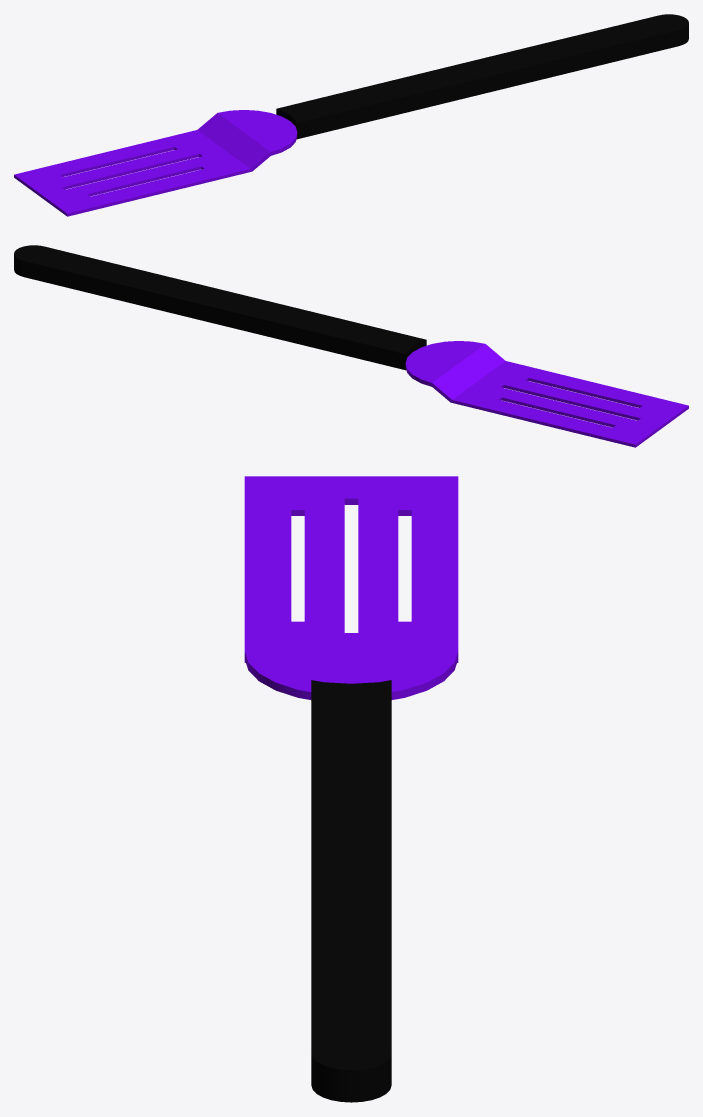
File: turner_06_origin_gt_6.dae
3 renders of one model, top to bottom at view 1: azimuth 30°, elevation 25°; view 2: azimuth 150°, elevation 25°; view 3: azimuth 270°, elevation 25°, orthographic. The views are drawn at different scales.
Parts seen in each view (by area): view 1: group_1 (×4), group_0; view 2: group_1 (×4), group_0; view 3: group_1, group_0.
Boxes of the visible parts, x1=… form: group_1 (×4): x1=14, y1=110, x2=297, y2=216; group_0: x1=276, y1=14, x2=688, y2=139; group_1 (×4): x1=405, y1=341, x2=688, y2=447; group_0: x1=14, y1=245, x2=426, y2=370; group_1: x1=244, y1=476, x2=458, y2=699; group_0: x1=311, y1=680, x2=391, y2=1102.
Size of the model in its own units: 13.96 by 2 by 0.4375.
